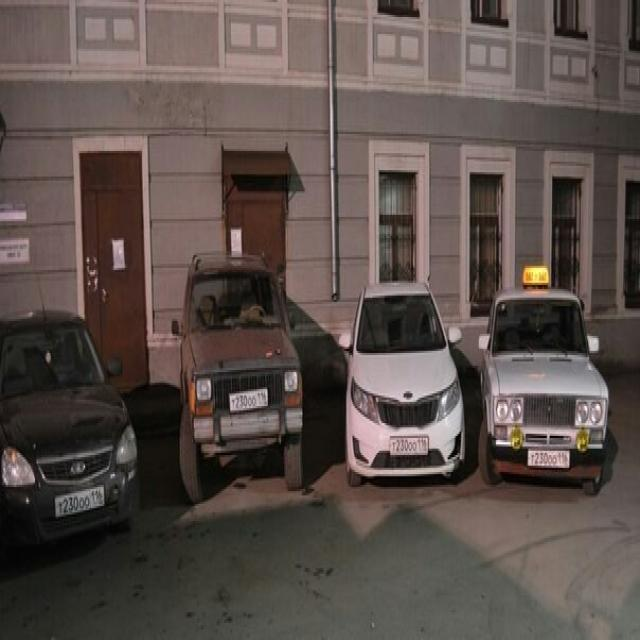number-plates: (54, 482, 106, 526), (229, 387, 268, 420), (388, 435, 428, 460), (527, 449, 570, 470)
